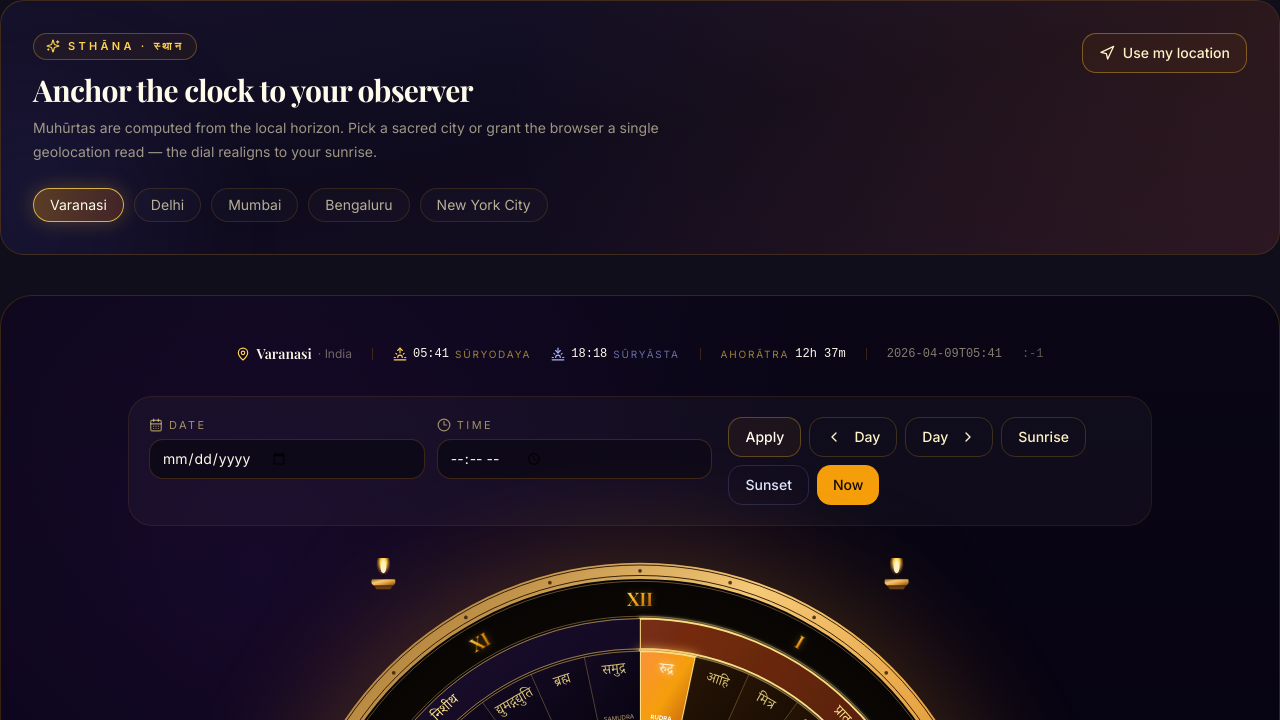
Scenario: VedicClockClient › does not synthesize cross-date preview state from stale astronomy
Expected: the text "2026-04-09T05:41" is shown, [887,346,1002,362]
Click the 2nd button "Day" at (949, 436), box [905,416,993,456]
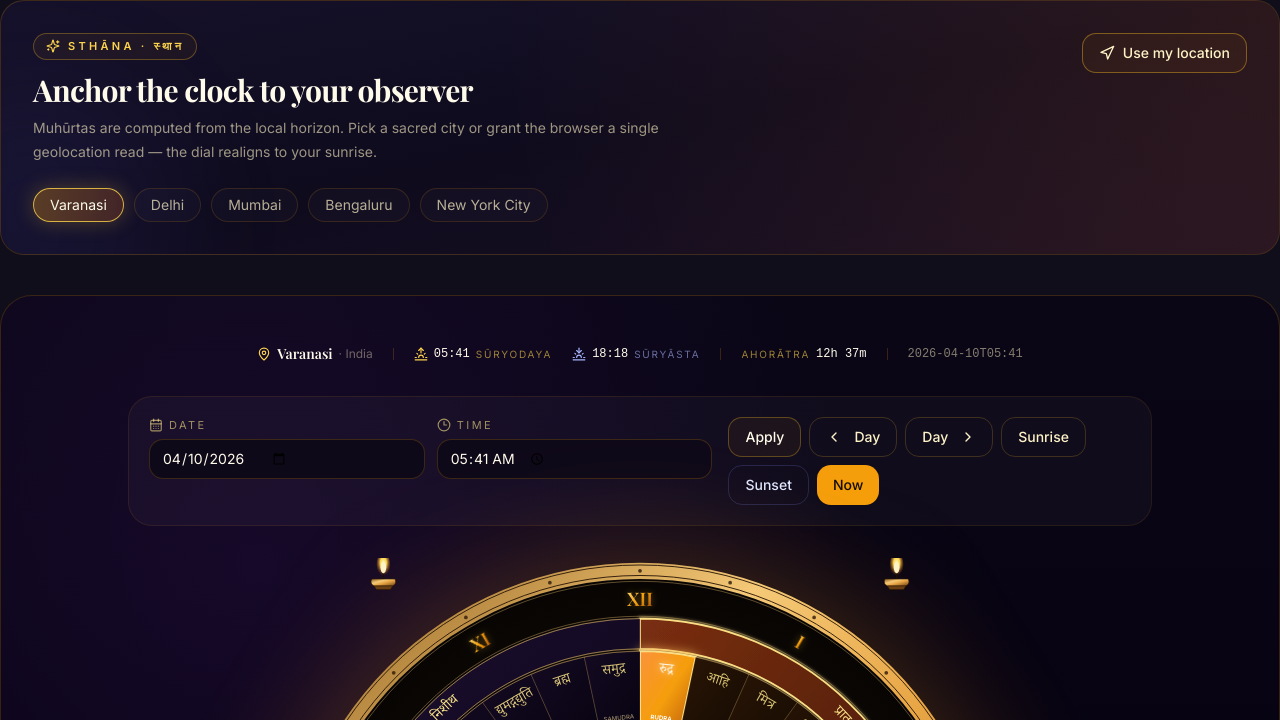
Expected: the text "2026-04-10T05:41" is shown, [908,346,1023,362]
Expected: the text "2026-04-09T05:41" is gone
